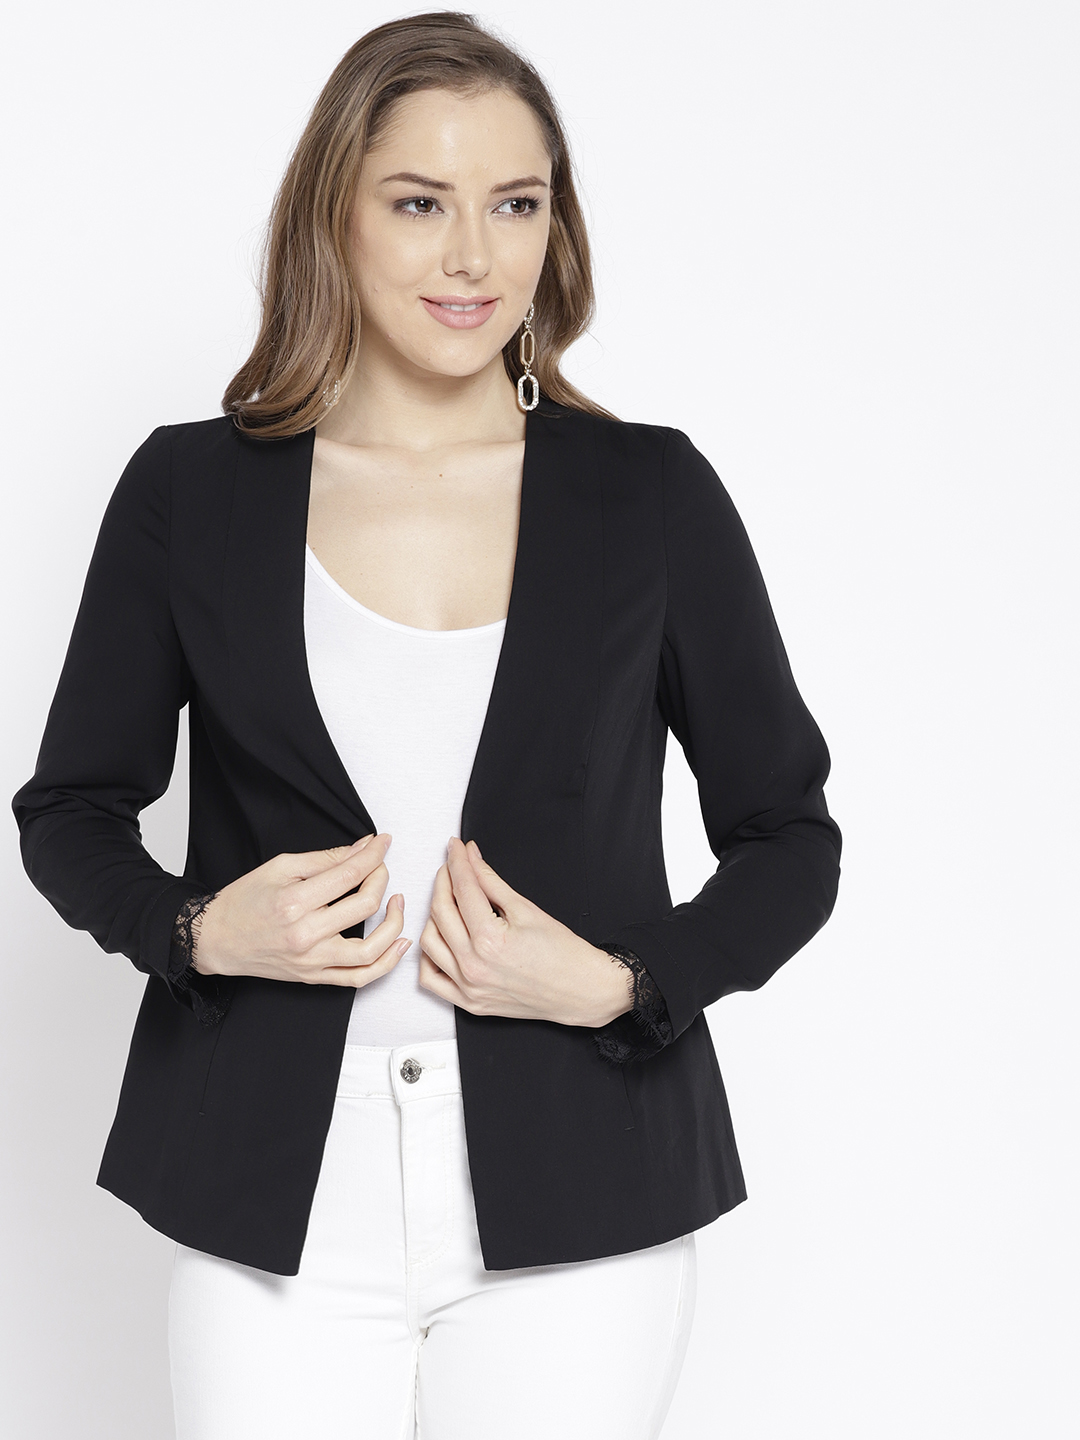F_W_suit jacket: (31, 391, 839, 1262)
